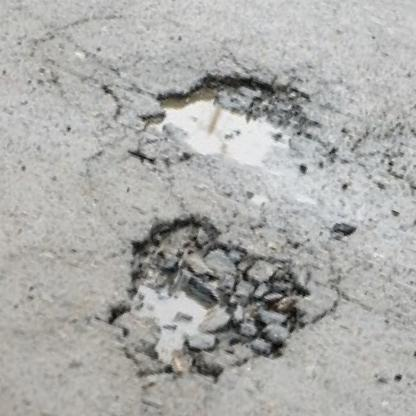pothole: (78, 186, 330, 416), (138, 39, 323, 192)
